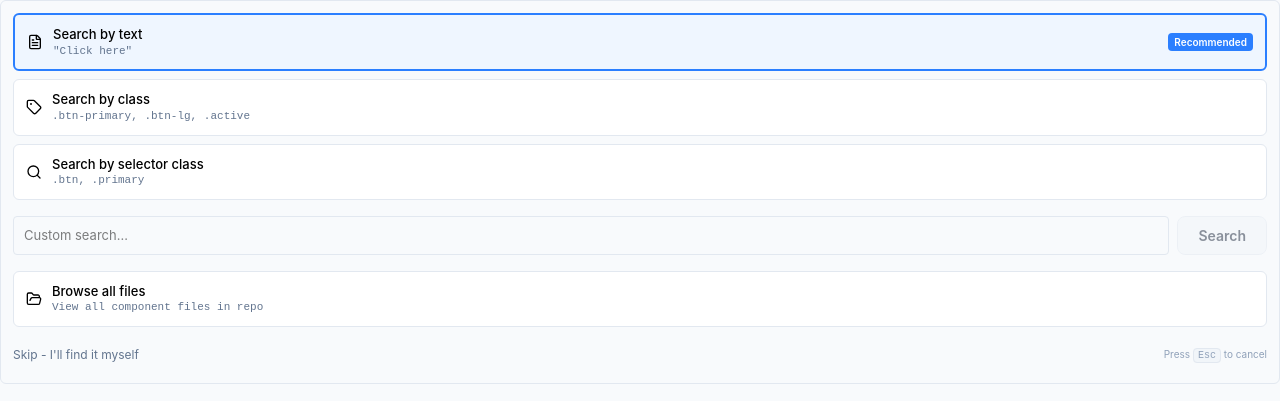
Test: findings/apply-fix/FileFinder › shows error when browse fails
Click the text "Browse all files". click: (99, 291)
box: [52,283,145,299]
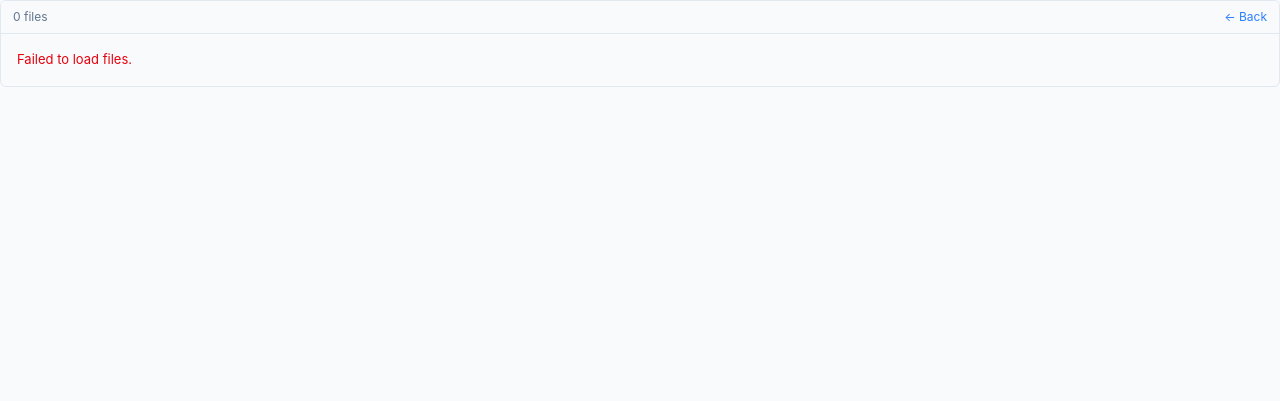
Check: the text "Failed to load files." is shown, box [17,51,132,67]
